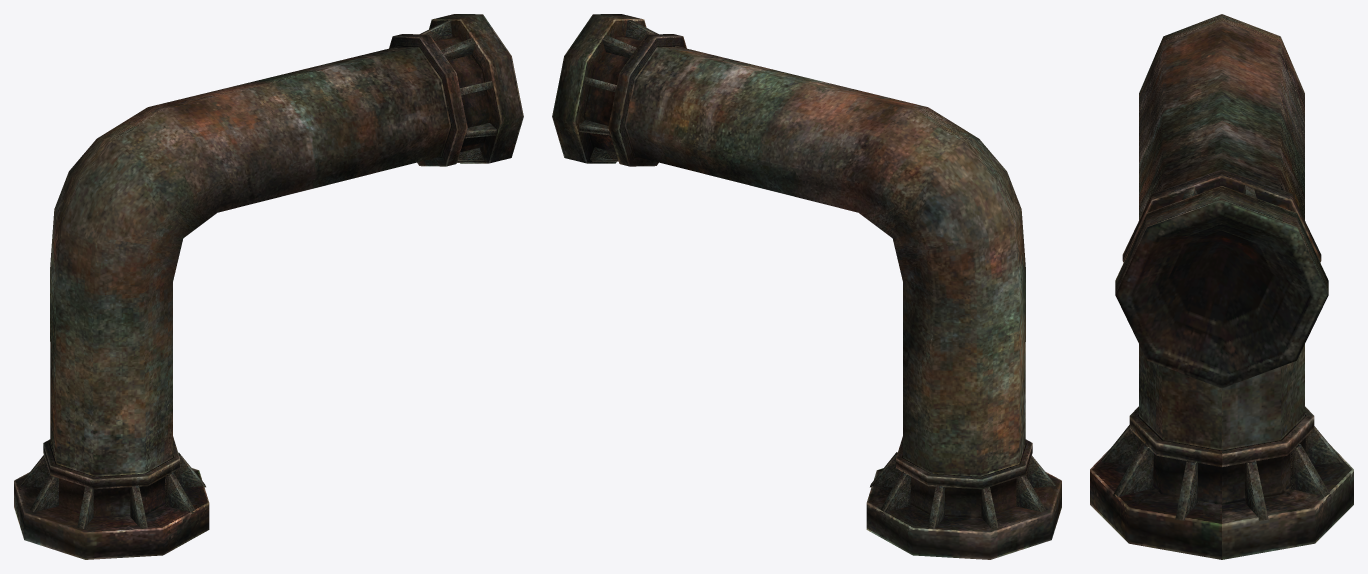
File: pipe_turn_broken_thick.dae
3 views of the same model, side by side, from view 1: azimuth 30°, elevation 25°; view 2: azimuth 150°, elevation 25°; view 3: azimuth 270°, elevation 25° (orthographic). The views are drawn at different scales.
Parts seen in each view (by area): view 1: turn_broken_thick; view 2: turn_broken_thick; view 3: turn_broken_thick.
Boxes of the visible parts, left/top/right/bottom form: turn_broken_thick: left=14, top=14, right=523, bottom=559; turn_broken_thick: left=552, top=14, right=1061, bottom=559; turn_broken_thick: left=1090, top=14, right=1353, bottom=559.
Size of the model in its own units: 1.18 by 0.4501 by 1.02.
